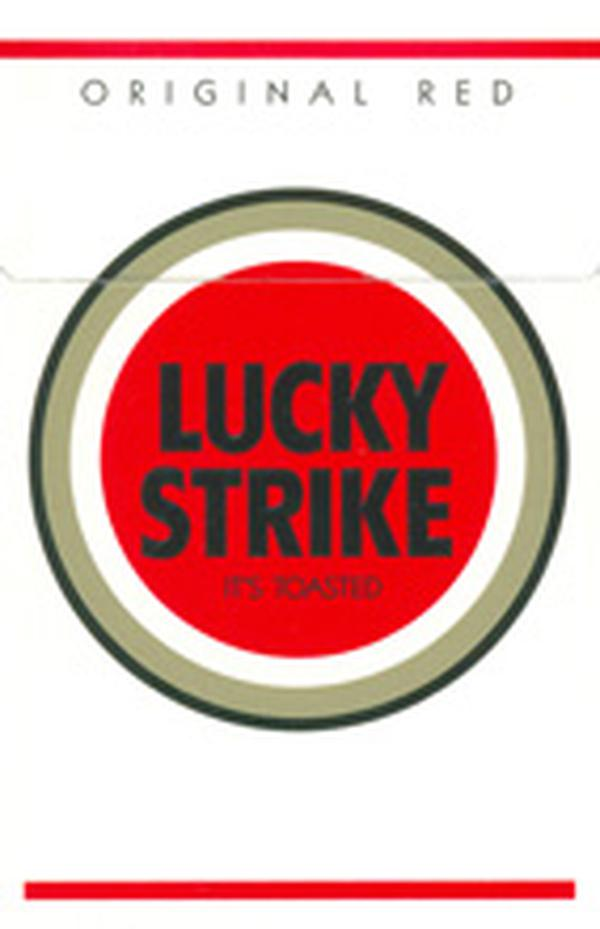lucky_strike_red: (4, 3, 600, 924)
